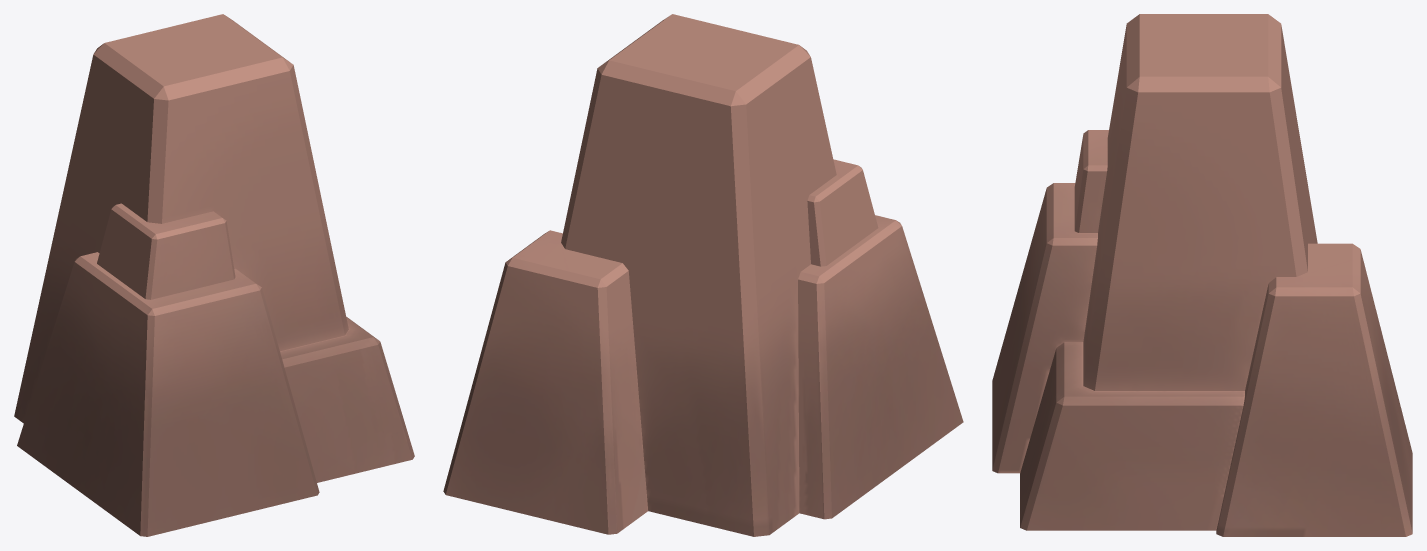
The model's file is rocks 4.fbx.
The picture shows the model from 3 angles, left to right: view 1: azimuth 30°, elevation 25°; view 2: azimuth 150°, elevation 25°; view 3: azimuth 270°, elevation 25°; orthographic projection. The views are drawn at different scales.
Visible parts, largest first — view 1: Cube.003; view 2: Cube.003; view 3: Cube.003.
Part boxes in pixels (bbox=[...]): Cube.003: bbox=[14, 14, 414, 536]; Cube.003: bbox=[443, 14, 963, 536]; Cube.003: bbox=[992, 14, 1412, 536].
Size of the model in its own units: 213 by 258 by 239.
